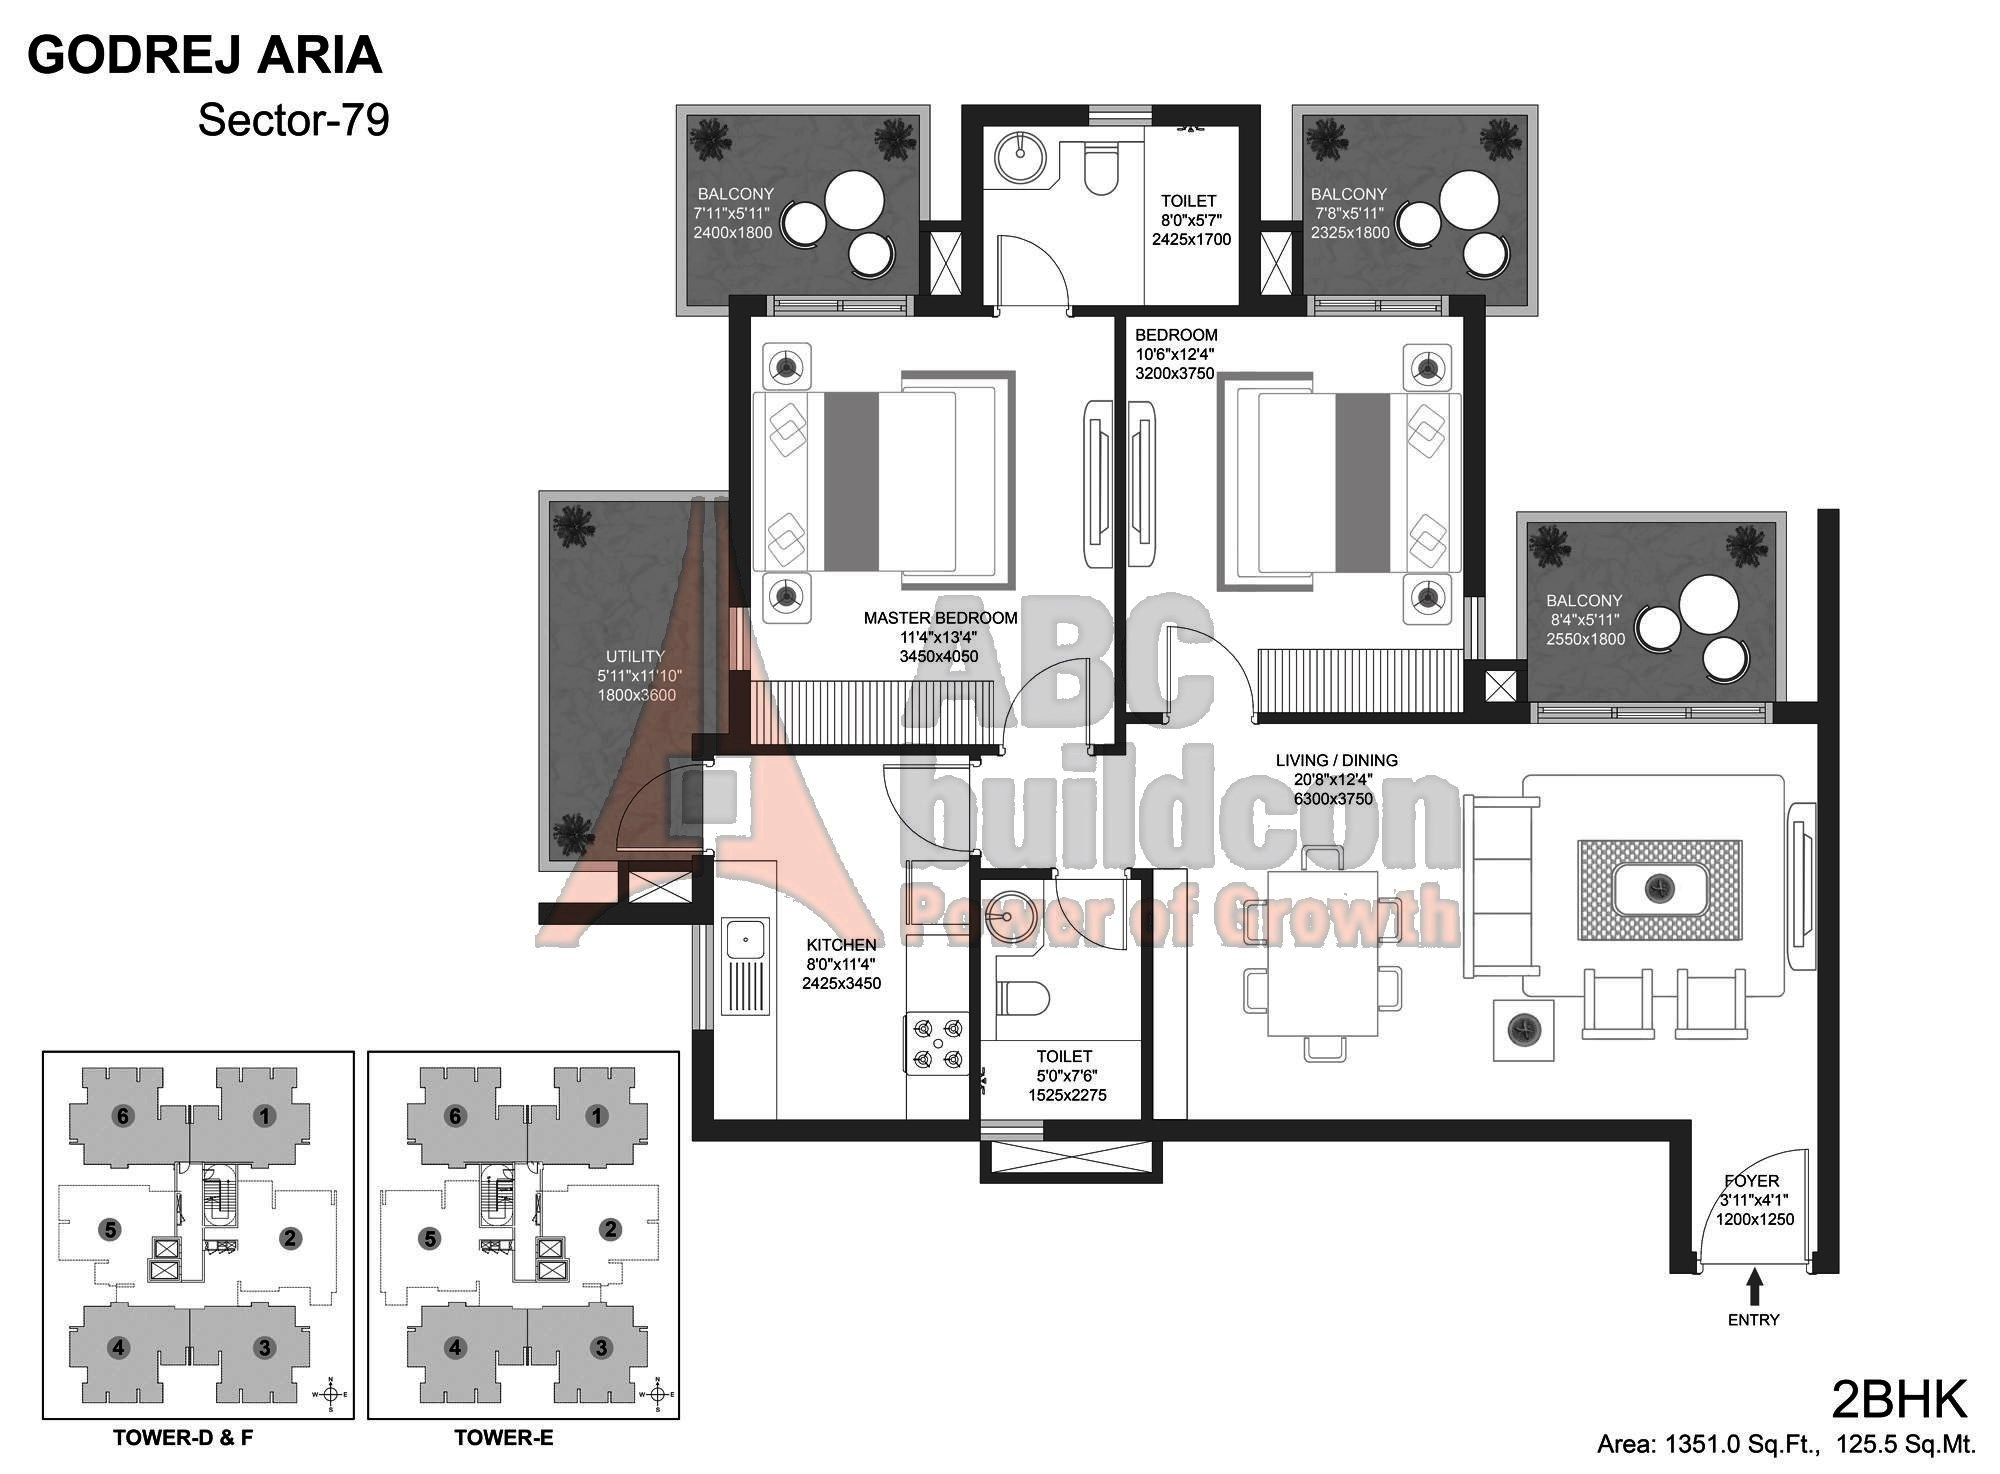door: (1702, 1139, 1814, 1236), (1003, 635, 1098, 735), (1155, 610, 1248, 711), (610, 756, 697, 854), (876, 758, 963, 856), (1050, 882, 1135, 958), (992, 230, 1073, 298)
